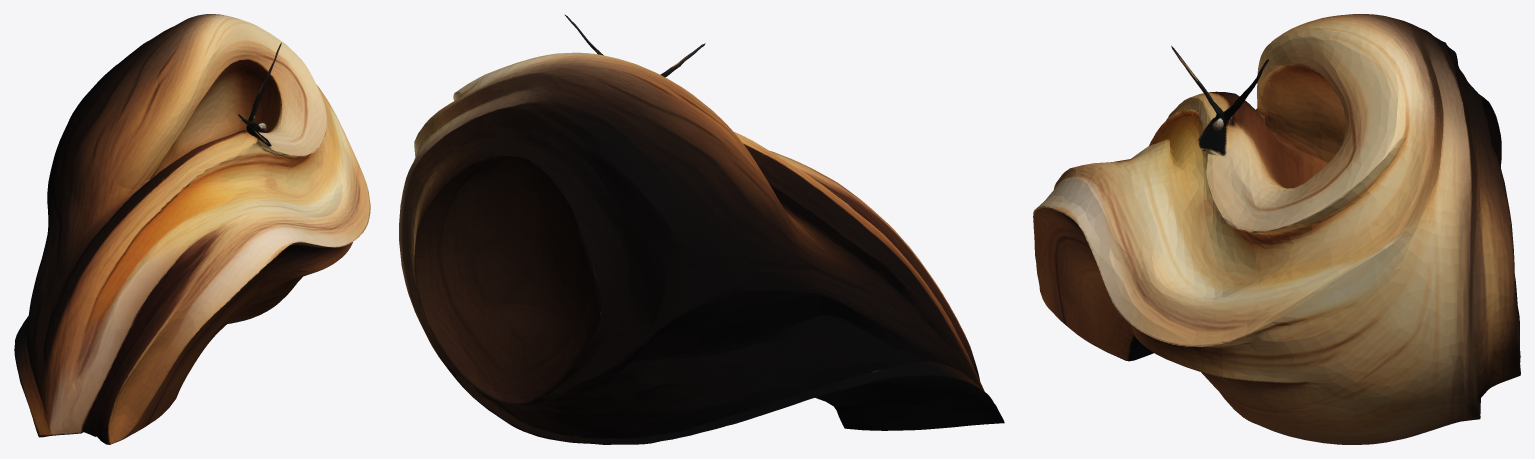
The model's file is wooden-clock-dune.jpeg.glb.
3 views of the same model, side by side, from view 1: azimuth 30°, elevation 25°; view 2: azimuth 150°, elevation 25°; view 3: azimuth 270°, elevation 25° (orthographic). The views are drawn at different scales.
Visible parts, largest first — view 1: world; view 2: world; view 3: world.
Boxes of the visible parts, left/top/right/bottom form: world: left=14, top=14, right=370, bottom=444; world: left=399, top=14, right=1004, bottom=444; world: left=1033, top=14, right=1520, bottom=444.
Bounding box in the file's own units: 0.9975 × 0.7365 × 0.7739.
Materials: 1 (1 with a texture image).
